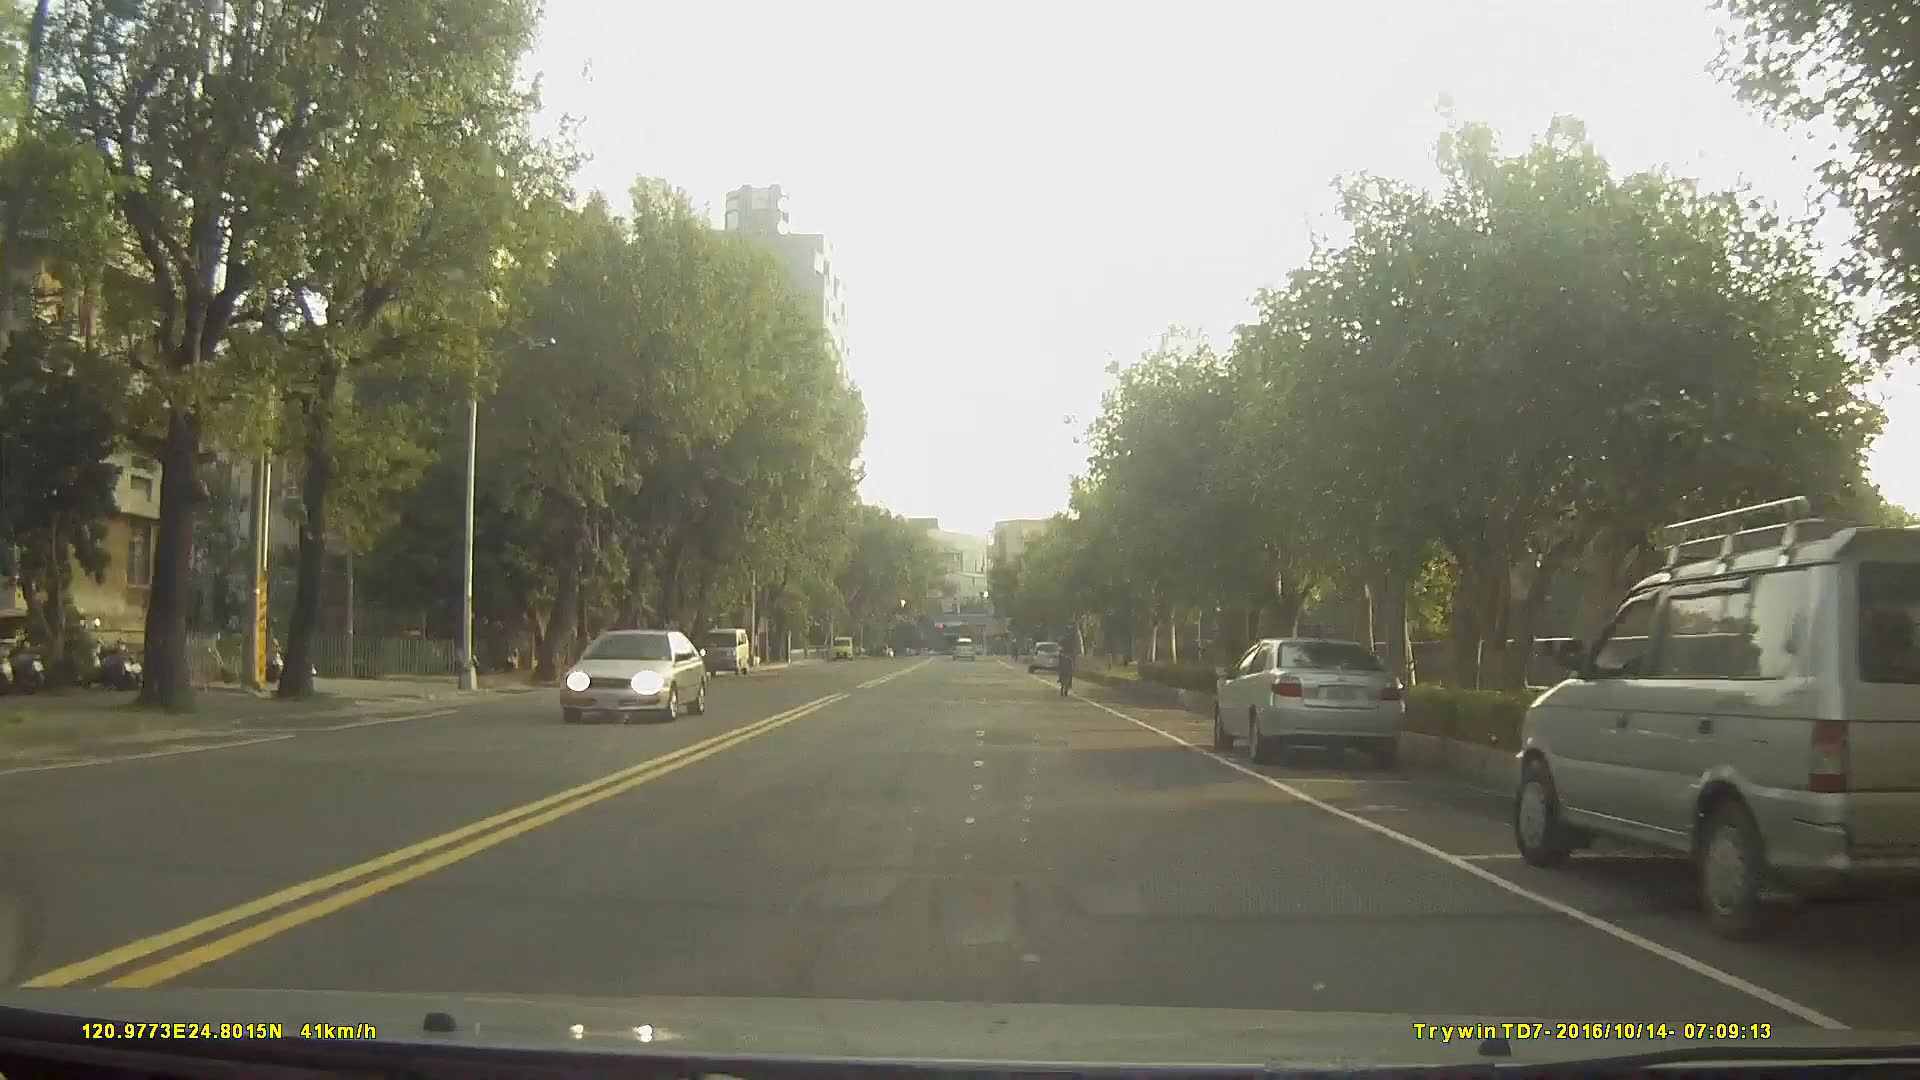rider: (1056, 619, 1083, 703)
vehicle: (1511, 522, 1920, 939), (1212, 636, 1407, 764), (559, 628, 708, 727), (615, 637, 678, 687), (698, 623, 748, 675), (1026, 636, 1064, 673), (950, 636, 977, 664)
